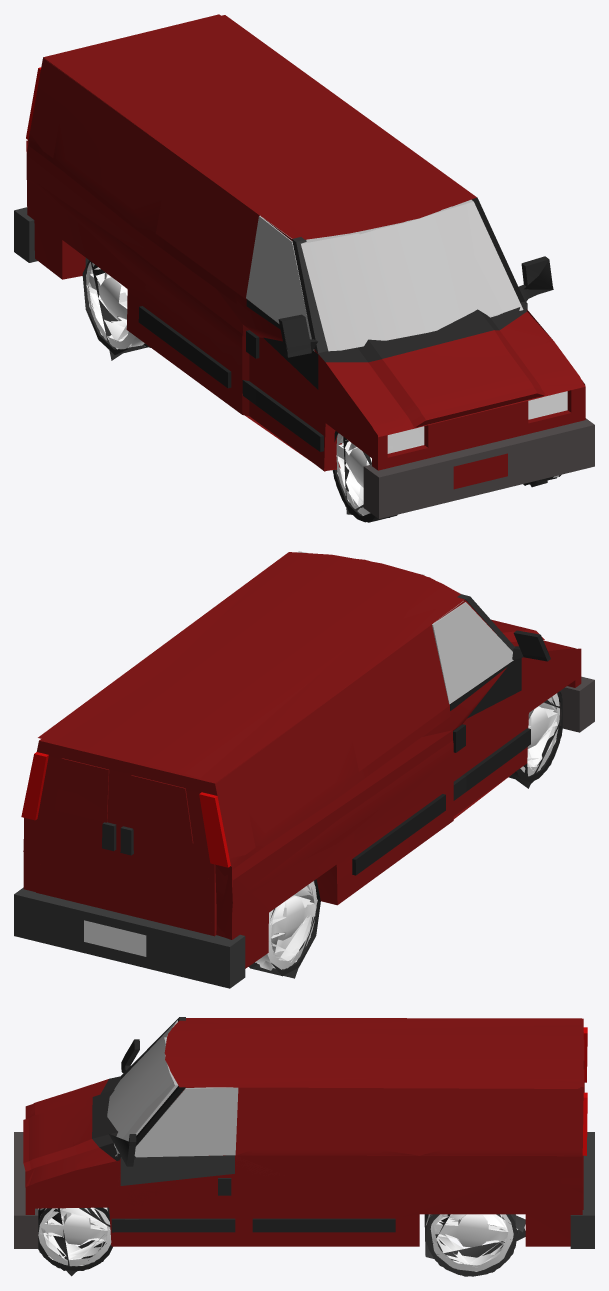
Rendered from bus.glb.
The picture shows the model from 3 angles, top to bottom: view 1: azimuth 30°, elevation 25°; view 2: azimuth 150°, elevation 25°; view 3: azimuth 270°, elevation 25°; orthographic projection. The views are drawn at different scales.
Parts seen in each view (by area): view 1: romp, ver, wiel_ar, wiel_vr; view 2: romp, ver, wiel_ar, wiel_vr; view 3: romp, ver, wiel_al, wiel_vl.
Part boxes in pixels (x1,y1,x2,y2): romp: [14, 15, 594, 518]; ver: [15, 14, 593, 522]; wiel_ar: [82, 260, 150, 355]; wiel_vr: [332, 431, 397, 522]; romp: [14, 552, 594, 988]; ver: [15, 551, 594, 986]; wiel_ar: [248, 879, 320, 976]; wiel_vr: [508, 691, 562, 782]; romp: [14, 1017, 594, 1248]; ver: [14, 1018, 594, 1276]; wiel_al: [425, 1214, 518, 1276]; wiel_vl: [38, 1207, 112, 1271].
Size of the model in its own units: 2.09 by 1.87 by 4.9.
